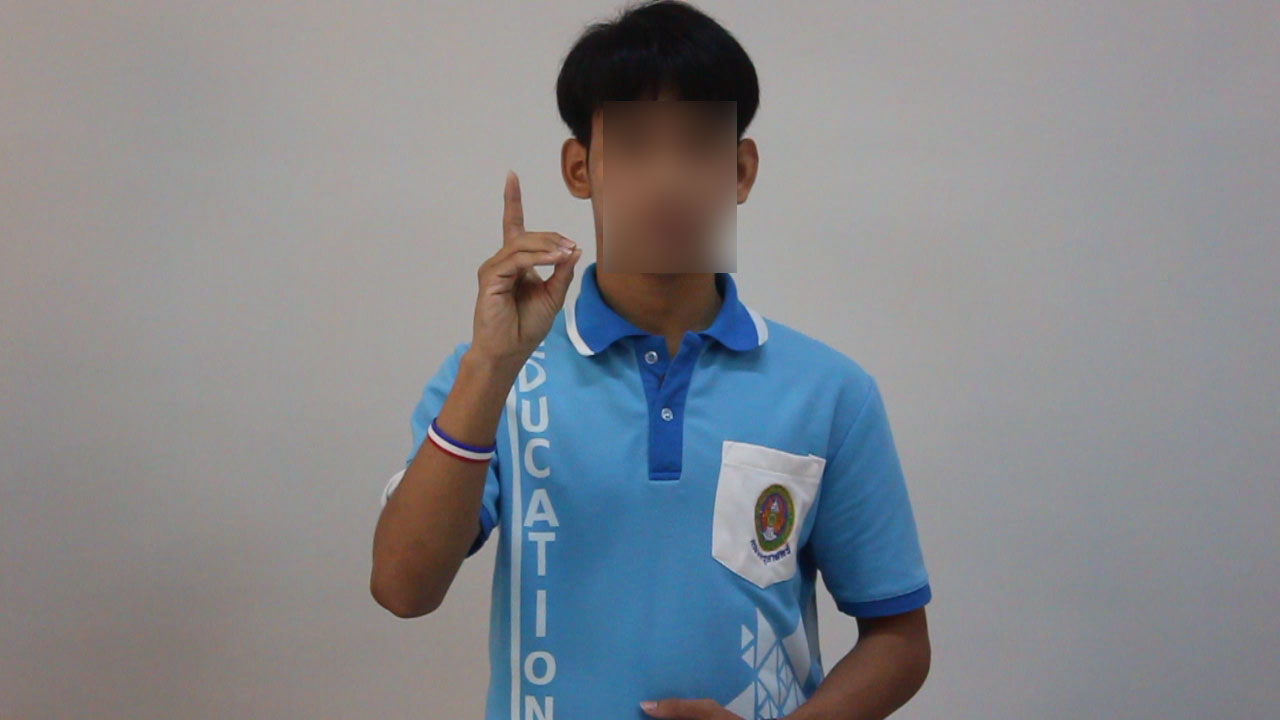dor: (455, 163, 592, 364)
